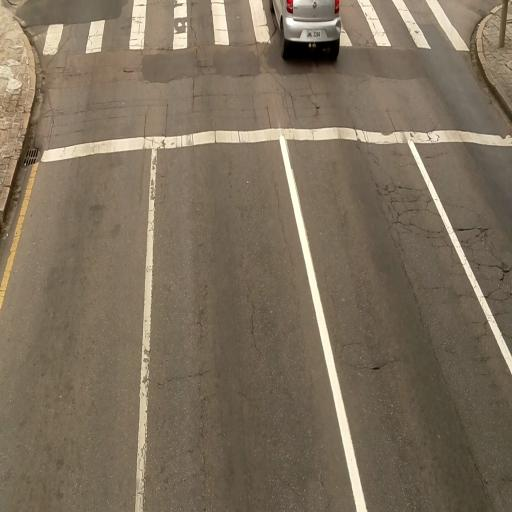car: (272, 2, 341, 60)
